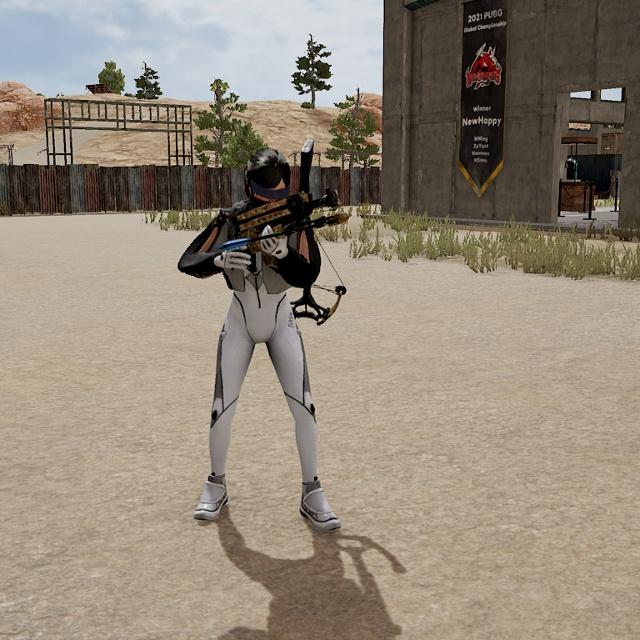head: (240, 143, 295, 214)
people: (176, 142, 347, 534)
